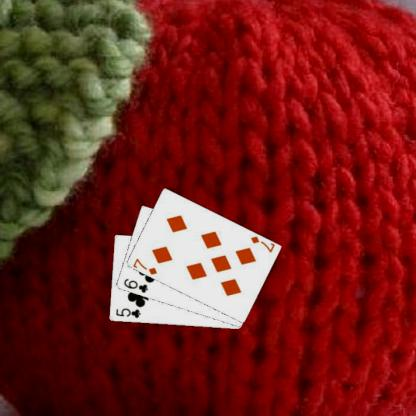5C: (113, 306, 141, 319)
6C: (121, 276, 149, 294)
7D: (248, 233, 275, 254), (131, 256, 158, 276)
